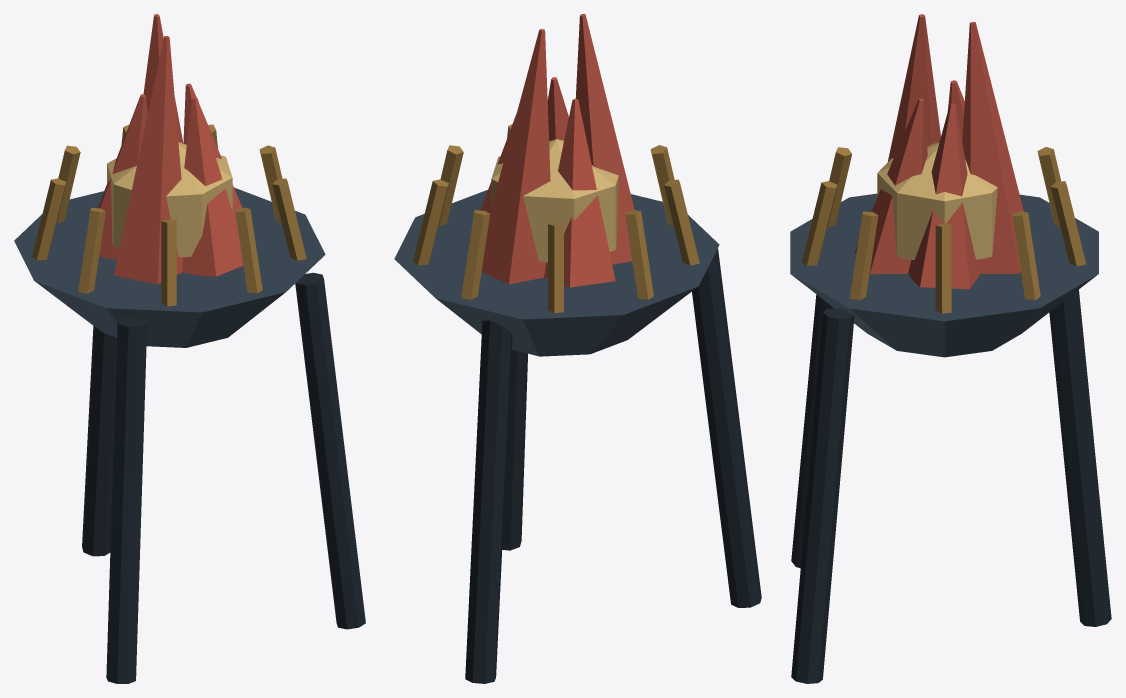
The model's file is brazier.glb.
The picture shows the model from 3 angles, left to right: view 1: azimuth 30°, elevation 25°; view 2: azimuth 150°, elevation 25°; view 3: azimuth 270°, elevation 25°; orthographic projection. The views are drawn at different scales.
Parts seen in each view (by area): view 1: brazier; view 2: brazier; view 3: brazier.
Boxes of the visible parts, box(x1,y1,x2,y2) form: brazier: box(14, 14, 365, 683); brazier: box(394, 14, 761, 683); brazier: box(790, 14, 1111, 683).
Bounding box in the file's own units: 0.92 × 1.88 × 0.9113.
